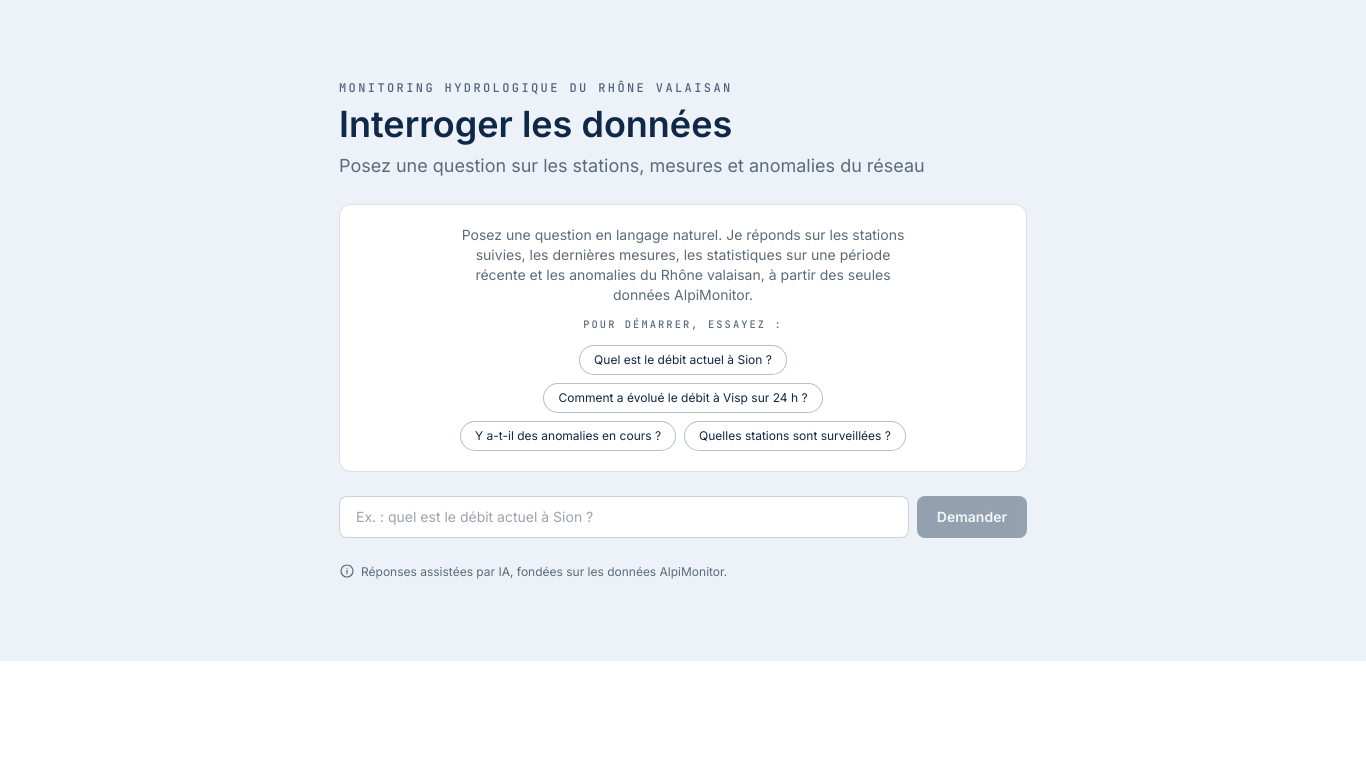
it: OChatPanel › surfaces the queried tools (used) for transparency
Type "débit à Sion ?" into the field with class "o-chat-panel__input" at (624, 517), box 339,496 -> 909,538
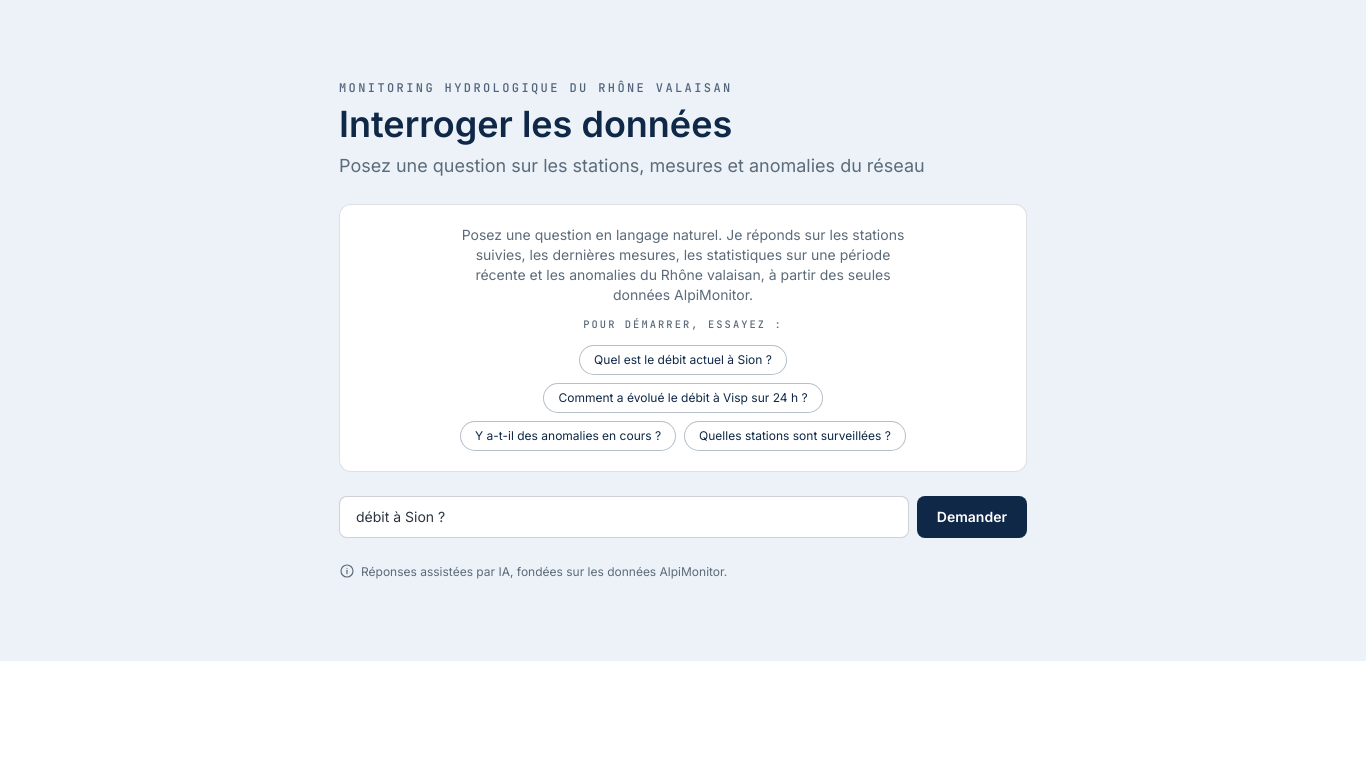
Submit the form with class "o-chat-panel__form", box 339,496 -> 1027,538
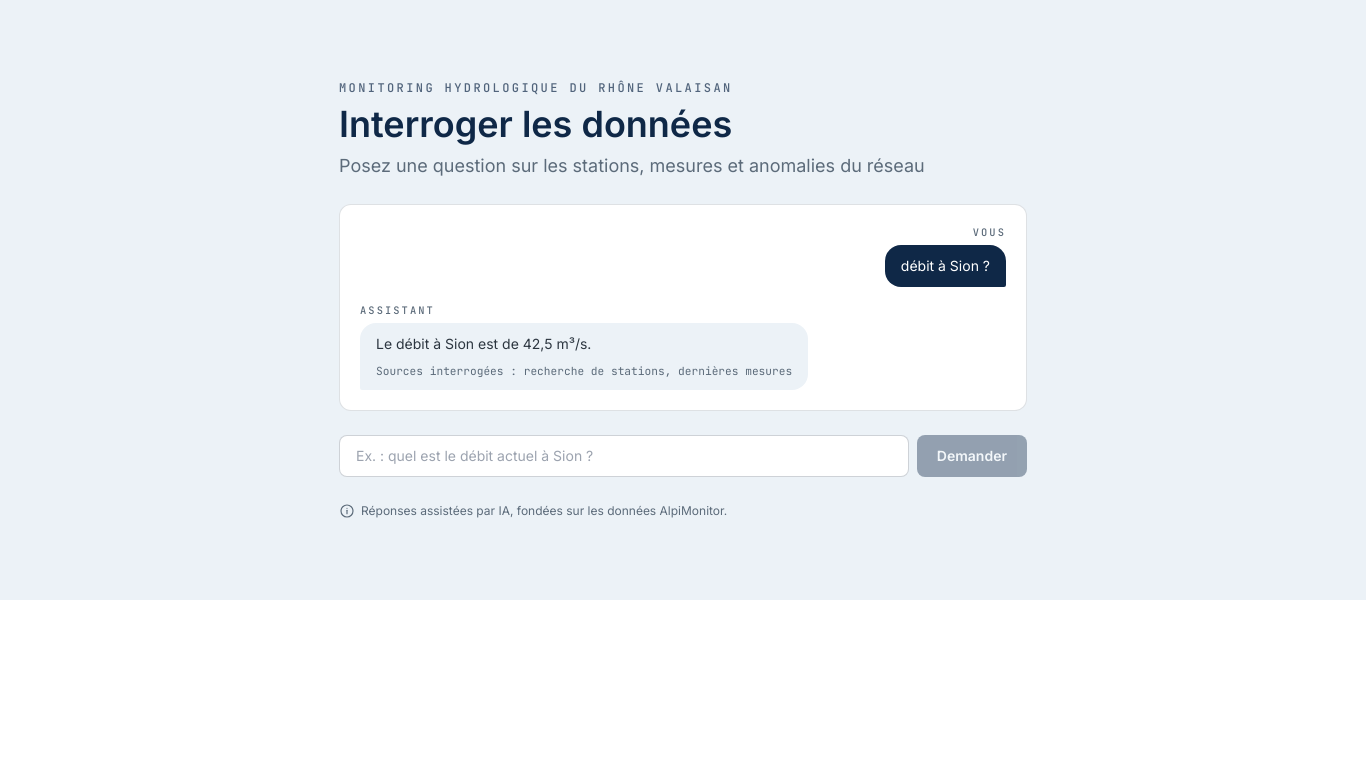
Check: the text with class "o-chat-panel__used" is shown, box 376,362 -> 792,380
Check: the text with class "o-chat-panel__used" shows "recherche de stations", box 376,364 -> 792,378
Check: the text with class "o-chat-panel__used" shows "dernières mesures", box 376,364 -> 792,378
